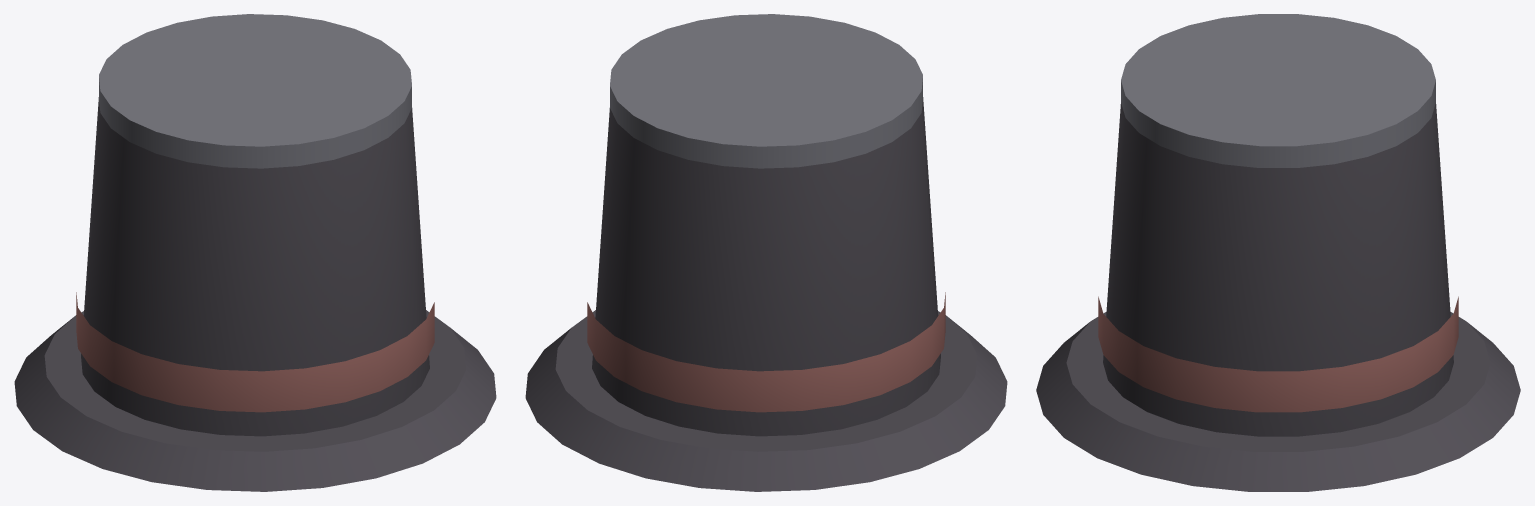
File: top-hat.glb
3 views of the same model, side by side, from view 1: azimuth 30°, elevation 25°; view 2: azimuth 150°, elevation 25°; view 3: azimuth 270°, elevation 25° (orthographic).
Visible parts, largest first — view 1: hat-top-hat; view 2: hat-top-hat; view 3: hat-top-hat.
Part boxes in pixels (left/top/right/bottom): hat-top-hat: left=14, top=14, right=496, bottom=491; hat-top-hat: left=525, top=14, right=1007, bottom=491; hat-top-hat: left=1036, top=14, right=1520, bottom=491.
Bounding box in the file's own units: 0.1588 × 0.113 × 0.16.
